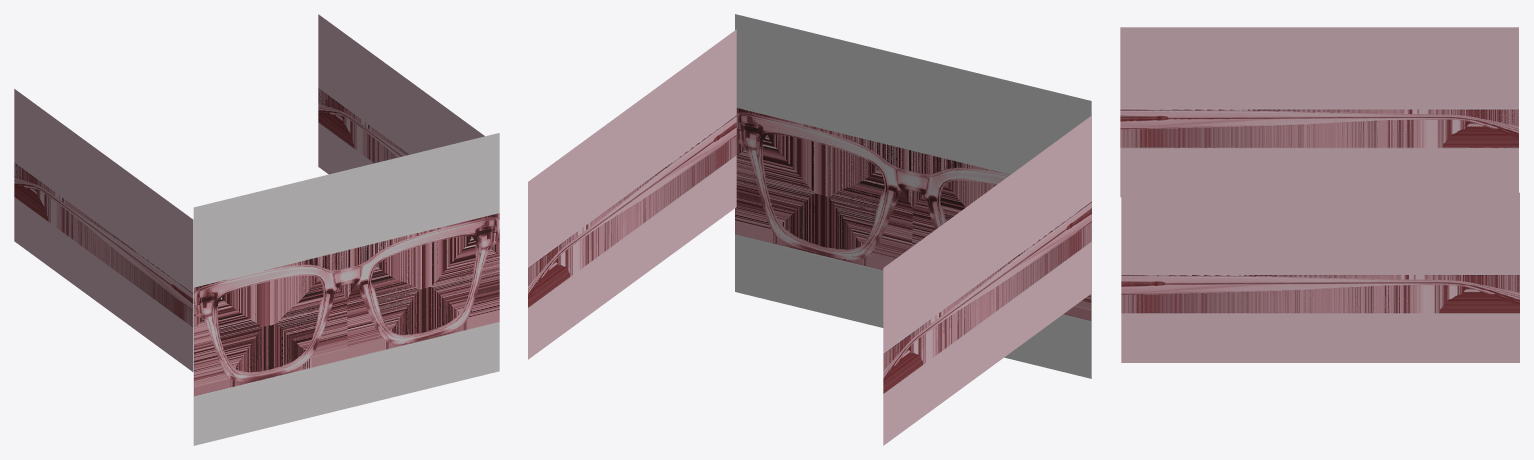
File: broadway-flex-33_f4.glb
3 renders of one model, left to right at view 1: azimuth 30°, elevation 25°; view 2: azimuth 150°, elevation 25°; view 3: azimuth 270°, elevation 25°, orthographic. The views are drawn at different scales.
Parts seen in each view (by area): view 1: Front, Right, Left; view 2: Front, Left, Right; view 3: Left, Right.
Part boxes in pixels (<box>): Front: <box>193,133,499,445</box>; Right: <box>14,89,193,371</box>; Left: <box>318,14,484,174</box>; Front: <box>735,14,1091,378</box>; Left: <box>528,29,736,359</box>; Right: <box>883,115,1091,445</box>; Left: <box>1121,192,1519,362</box>; Right: <box>1120,27,1518,197</box>.
Bounding box in the file's own units: 147 × 109 × 149.
4 materials, 4 textured.
